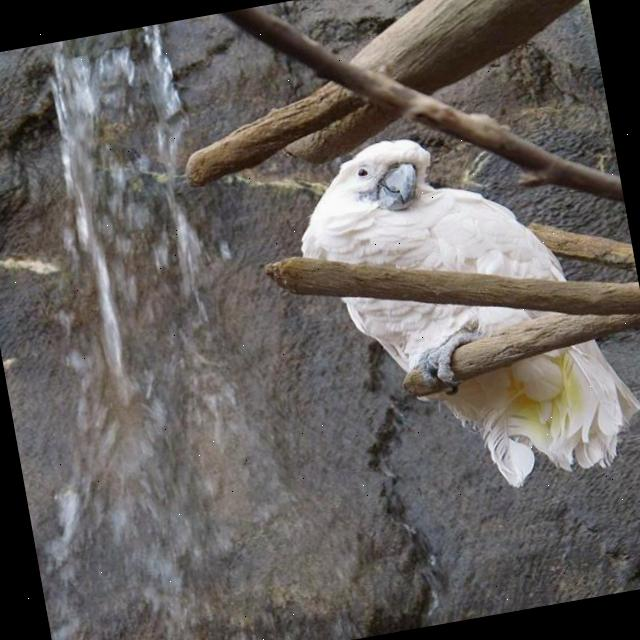Kakatua Putih: (240, 83, 640, 539)
